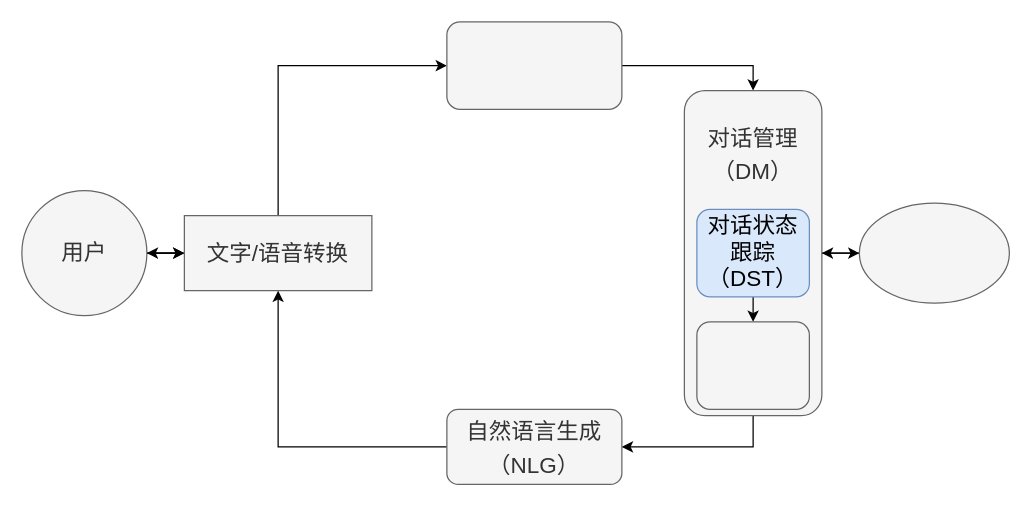
This 1031x506 diagram has some shape labels left out. Each missing label, with the centre of its shape:
外部知识: the point at 933,252
对话策略学习（DPL）: the point at 752,365
自然语言理解（NLU）: the point at 534,65
